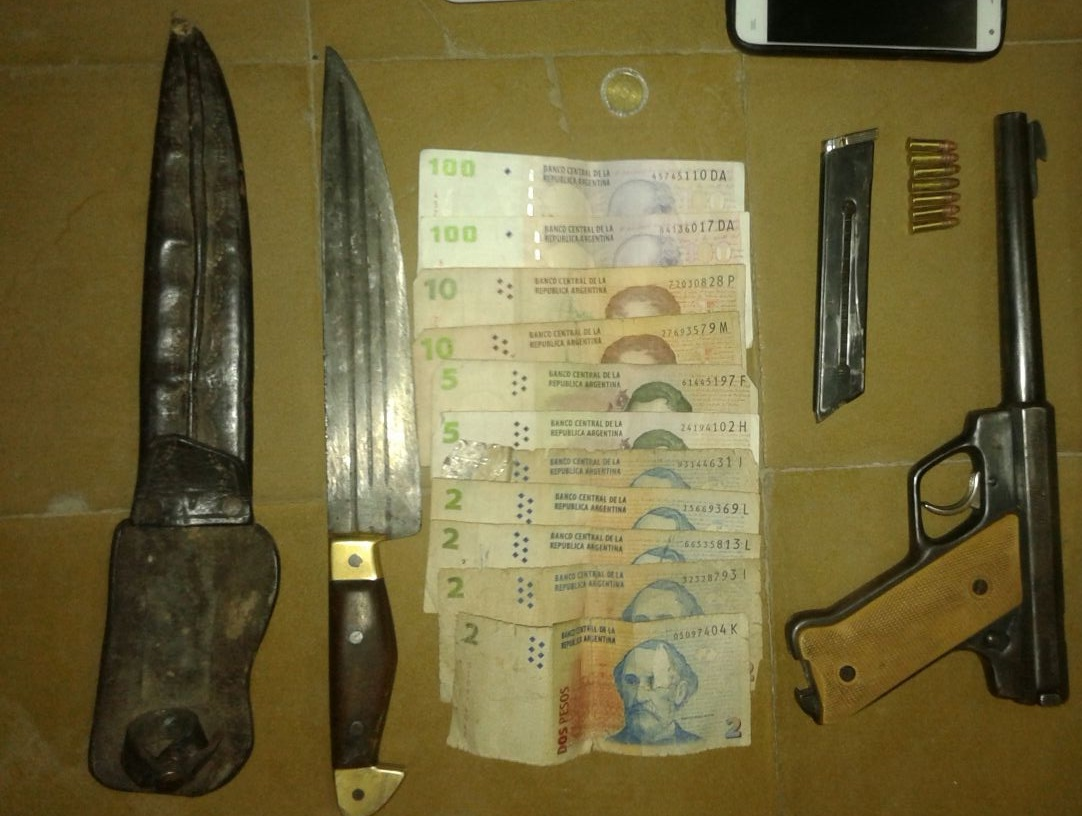knife: (299, 27, 432, 808)
